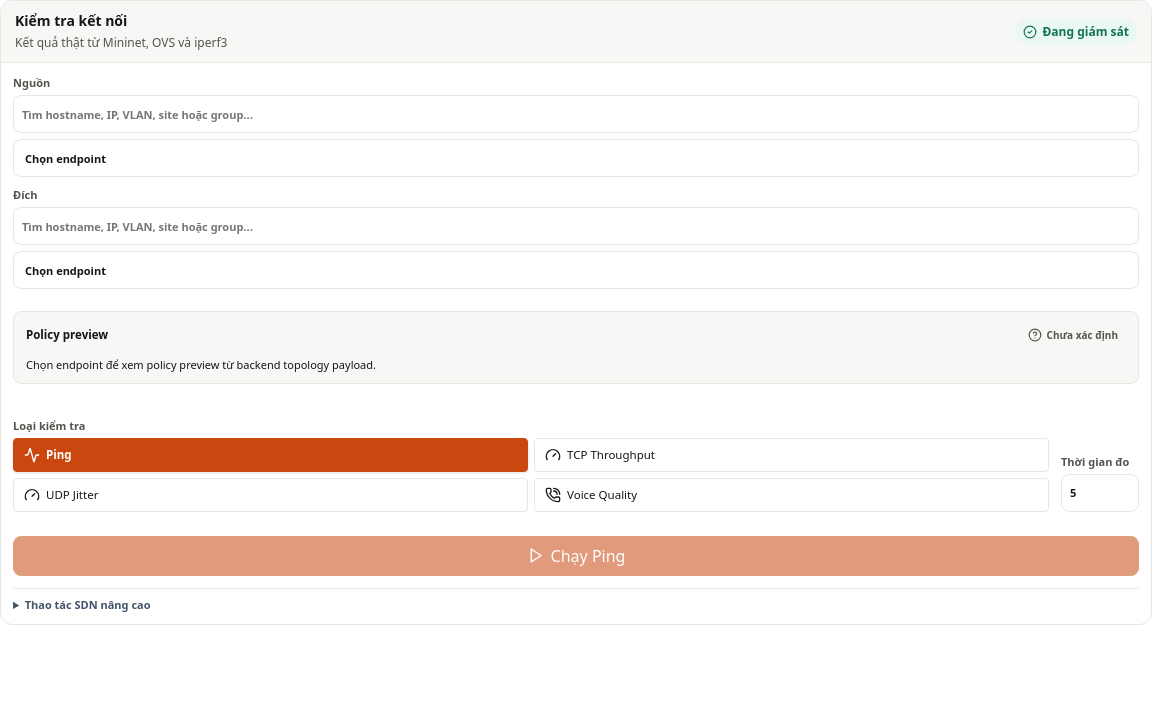
Test: TestPanel › changes the test type with one click and starts with no false endpoint error
Expected: the button "Chạy Ping" is disabled, [13,536,1139,576]
Click the button "TCP Throughput" at (611, 455), box [534,438,1049,472]
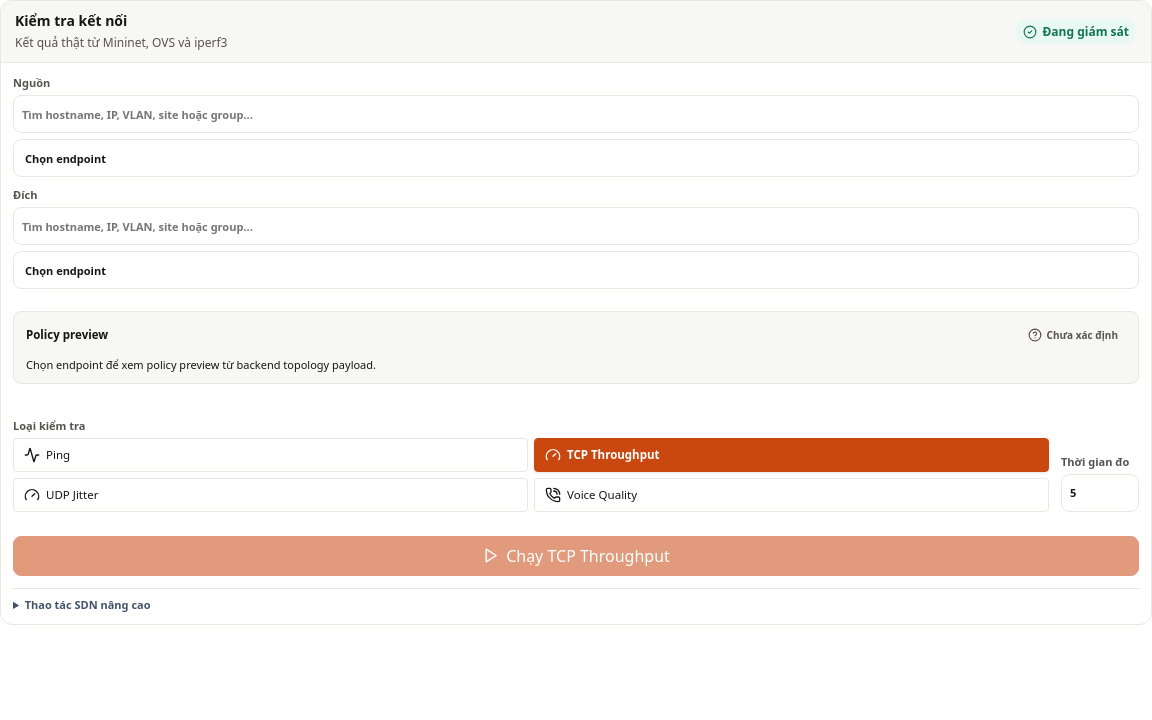
Now the button "Chạy TCP Throughput" is shown, box [13,536,1139,576]
